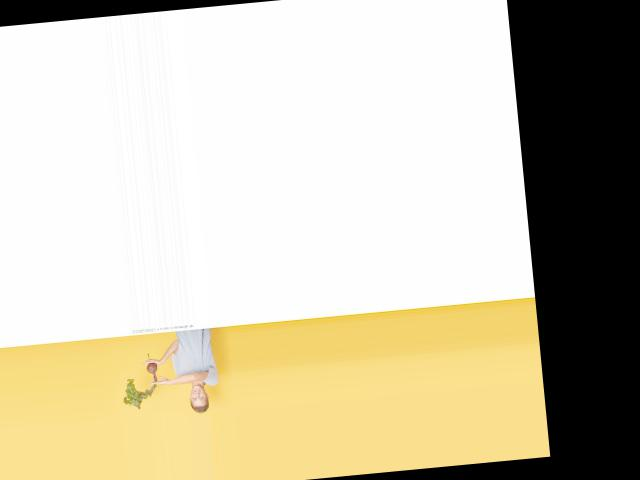beet: (118, 352, 160, 410)
